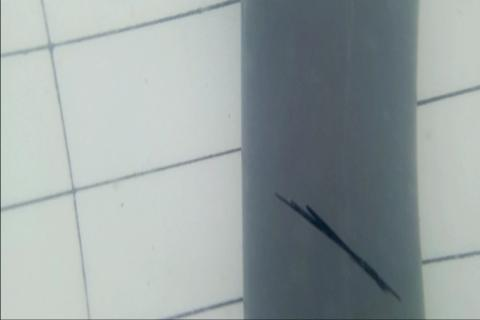keretakan: (271, 190, 405, 305)
